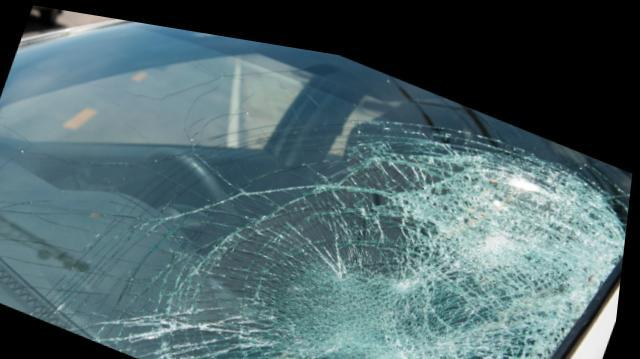glass shatter: (0, 17, 634, 359)
